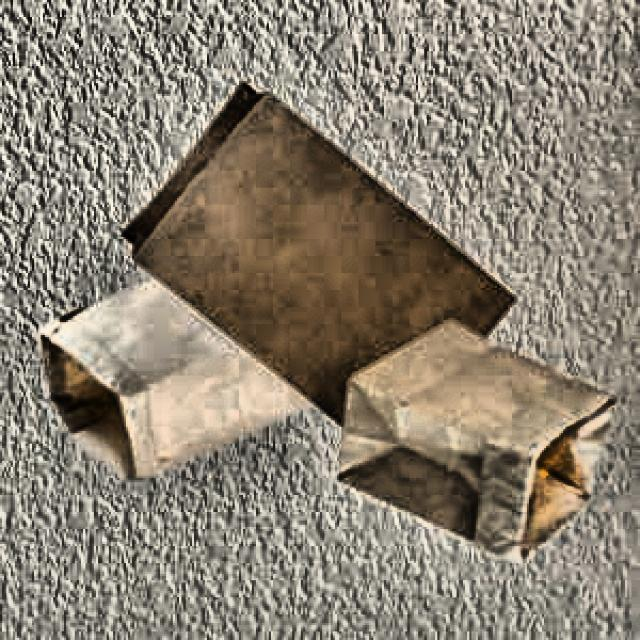Paper-bag: (98, 57, 531, 463), (320, 305, 640, 574), (29, 232, 336, 484)
